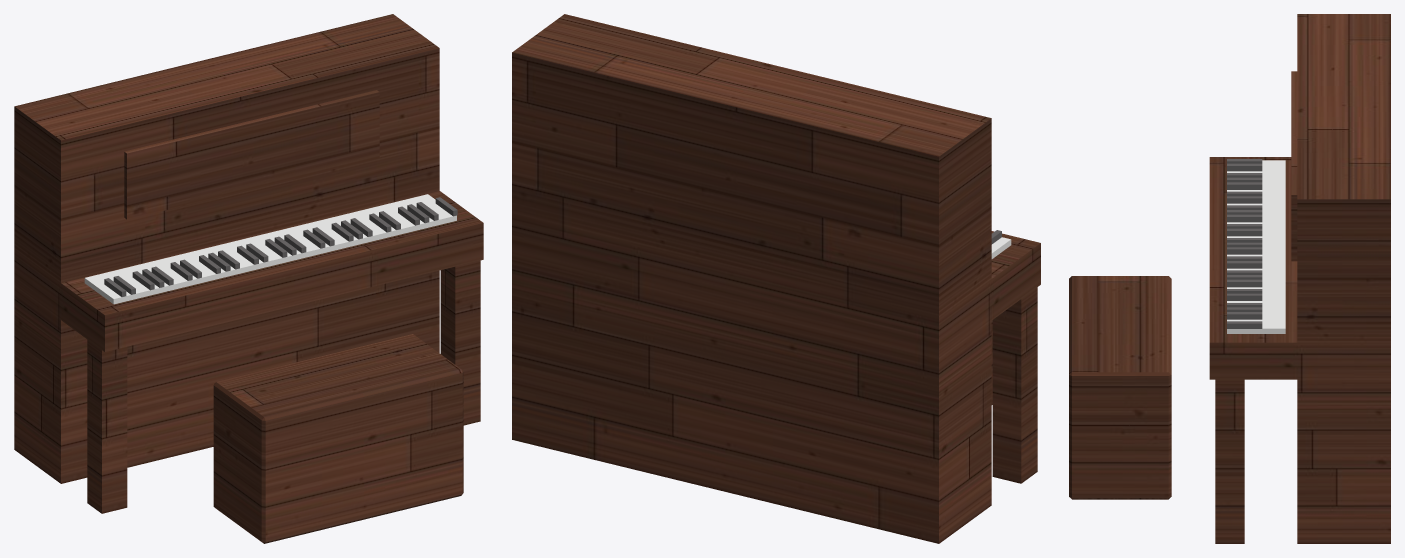
The model's file is piano.glb.
3 views of the same model, side by side, from view 1: azimuth 30°, elevation 25°; view 2: azimuth 150°, elevation 25°; view 3: azimuth 270°, elevation 25° (orthographic). The views are drawn at different scales.
Visible parts, largest first — view 1: piano_dkwood, piano_porcelain, piano_dark; view 2: piano_dkwood; view 3: piano_dkwood, piano_dark, piano_porcelain.
Part boxes in pixels (bbox=[...]): piano_dkwood: bbox=[14, 14, 483, 543]; piano_porcelain: bbox=[84, 194, 456, 304]; piano_dark: bbox=[104, 197, 457, 296]; piano_dkwood: bbox=[512, 14, 1040, 543]; piano_dkwood: bbox=[1069, 14, 1390, 543]; piano_dark: bbox=[1227, 159, 1262, 328]; piano_porcelain: bbox=[1227, 160, 1285, 333].
Size of the model in its own units: 1.5 by 1.3 by 1.1.
Materials: 3 (1 with a texture image).
